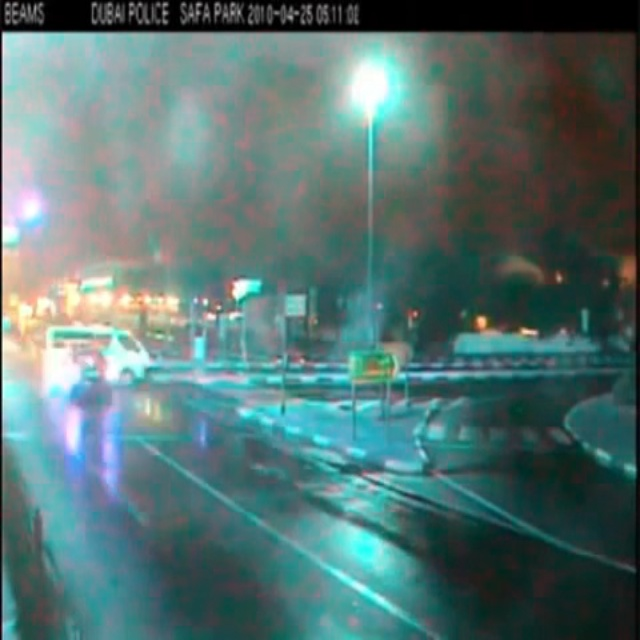acc: (46, 319, 155, 403)
